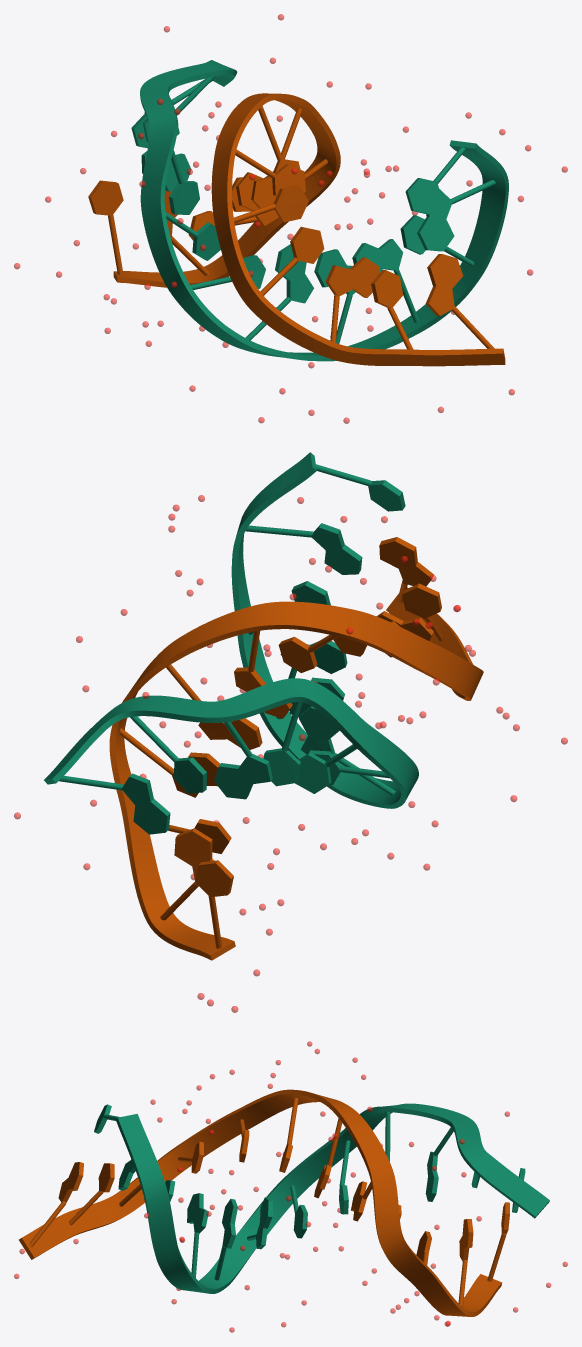
3 views of the same model, one above another, from view 1: azimuth 30°, elevation 25°; view 2: azimuth 150°, elevation 25°; view 3: azimuth 270°, elevation 25° (orthographic). The views are drawn at different scales.
Size of the model in its own units: 29.2 by 23.86 by 46.04.
